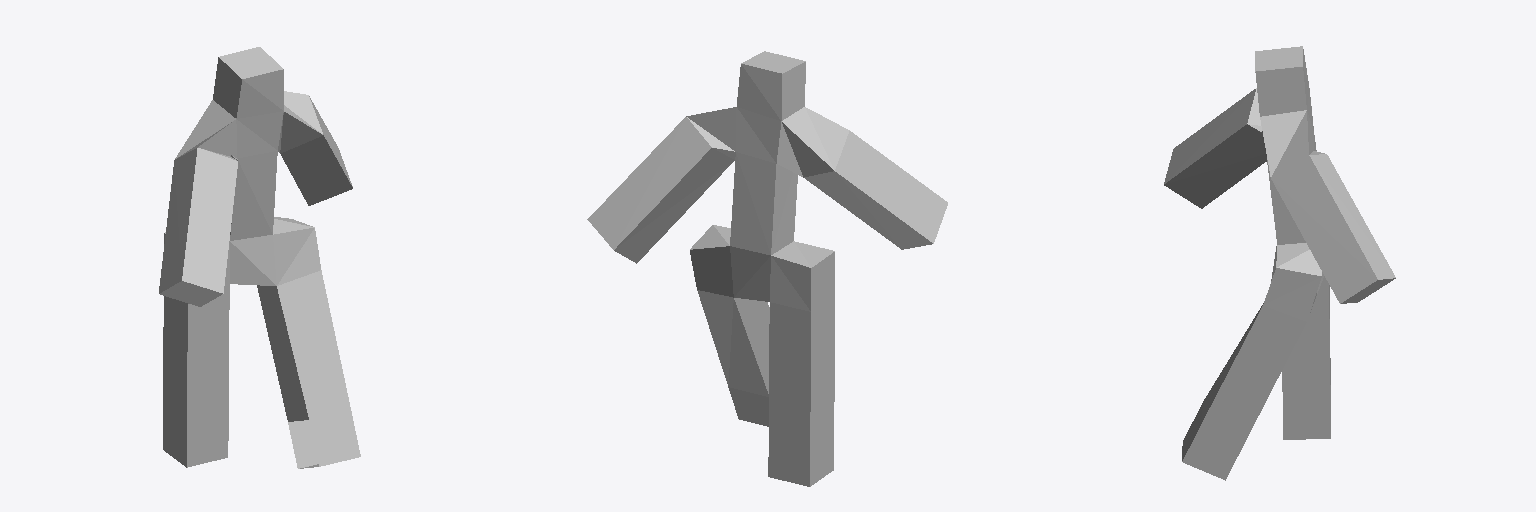
File: cuboid_000011.obj
3 renders of one model, left to right at view 1: azimuth 30°, elevation 25°; view 2: azimuth 150°, elevation 25°; view 3: azimuth 270°, elevation 25°, orthographic.
Parts seen in each view (by area): view 1: Cube; view 2: Cube; view 3: Cube.
Part boxes in pixels (x1,y1,x2,y2): Cube: (159, 47, 360, 468); Cube: (587, 51, 947, 486); Cube: (1164, 46, 1395, 480).
Bounding box in the file's own units: 3.16 × 4.52 × 2.42.